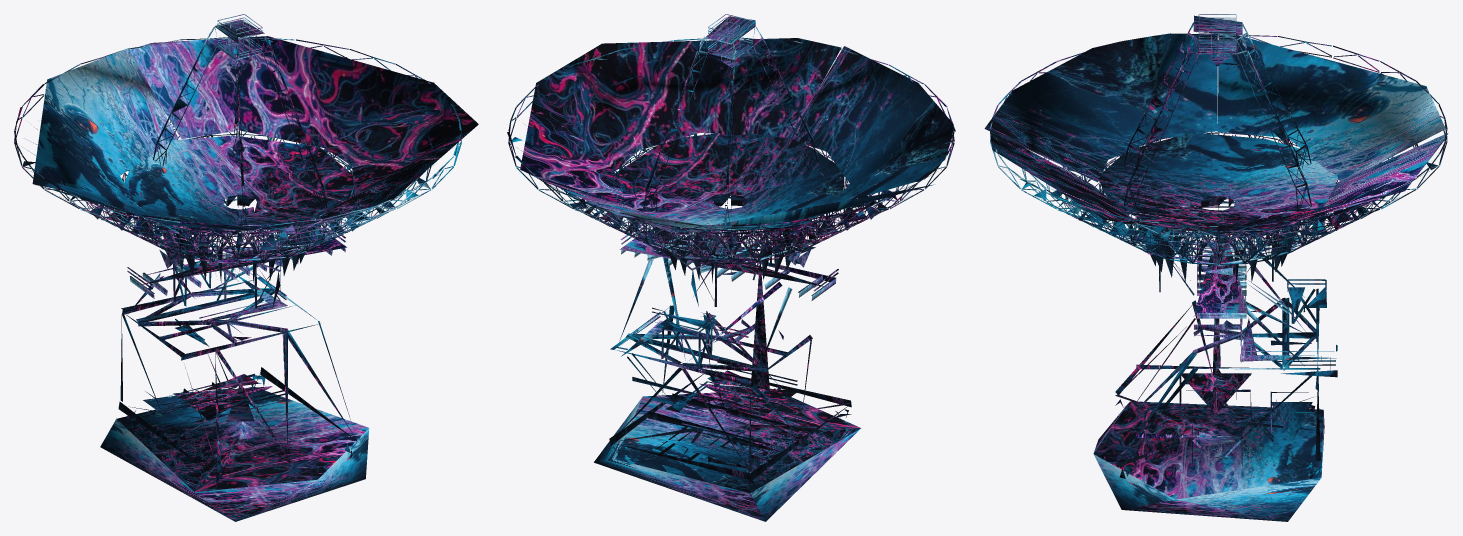
The model's file is deep-space-network-34-meter.glb.
3 renders of one model, left to right at view 1: azimuth 30°, elevation 25°; view 2: azimuth 150°, elevation 25°; view 3: azimuth 270°, elevation 25°, orthographic. The views are drawn at different scales.
Visible parts, largest first — view 1: A; view 2: A; view 3: A.
Part boxes in pixels (x1,y1,x2,y2): A: (14,14,478,521); A: (507,14,955,521); A: (984,14,1448,521).
Size of the model in its own units: 1.91 by 2 by 1.87.
Materials: 13 (13 with a texture image).
